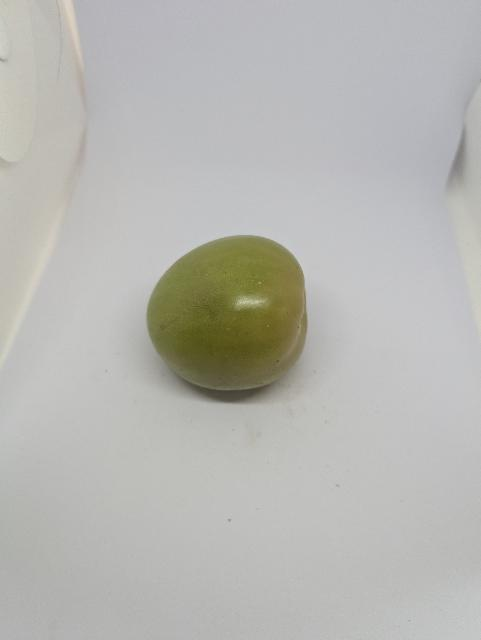green: (131, 229, 329, 396)
